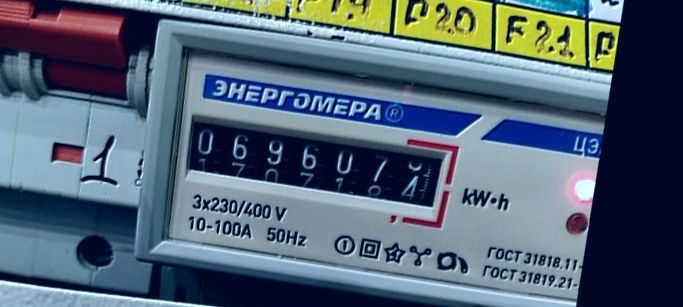0: (193, 126, 218, 159), (334, 147, 357, 178)
4: (398, 172, 421, 204)
6: (298, 141, 322, 175), (229, 131, 252, 163)
7: (368, 151, 391, 185)
9: (263, 137, 288, 169)
screen: (170, 97, 464, 232)
